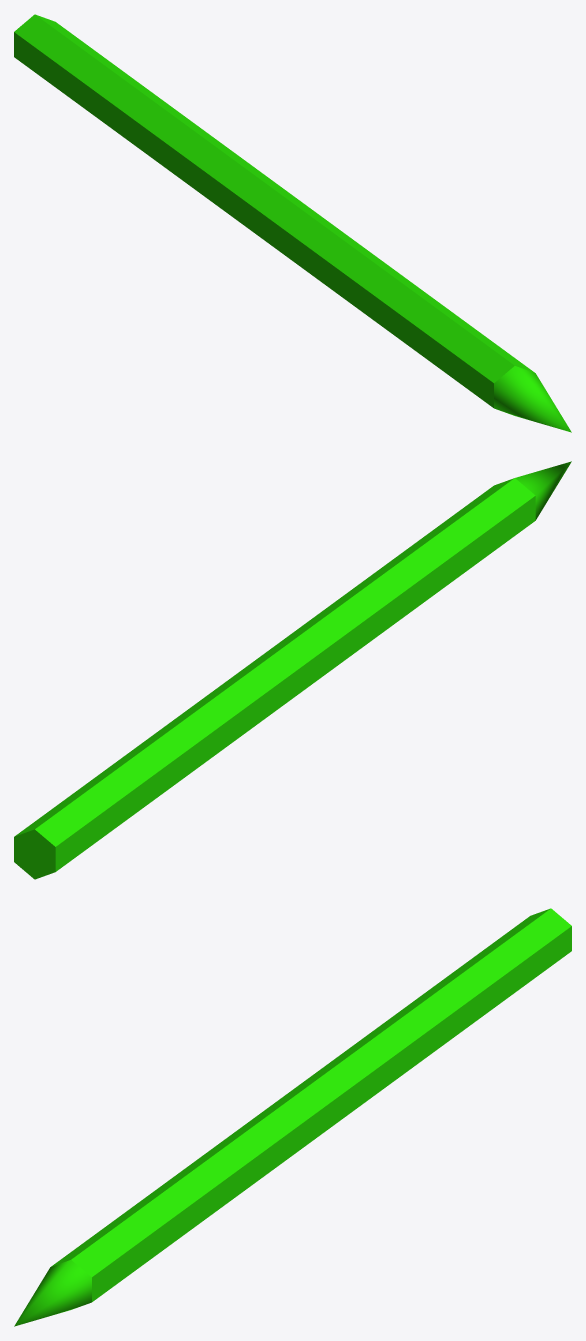
File: Pen_02.fbx
3 renders of one model, top to bottom at view 1: azimuth 30°, elevation 25°; view 2: azimuth 150°, elevation 25°; view 3: azimuth 330°, elevation 25°, orthographic.
Parts seen in each view (by area): view 1: Pen_02; view 2: Pen_02; view 3: Pen_02.
Boxes of the visible parts, x1,y1,x2,y2 form: Pen_02: [14, 14, 571, 432]; Pen_02: [14, 461, 571, 879]; Pen_02: [14, 908, 571, 1326].
Bounding box in the file's own units: 0.8315 × 0.9602 × 18.6.
